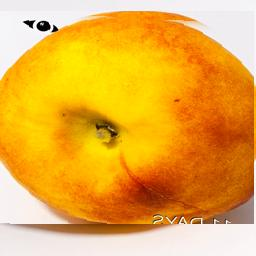Peach Semifresh: (0, 12, 254, 225)
